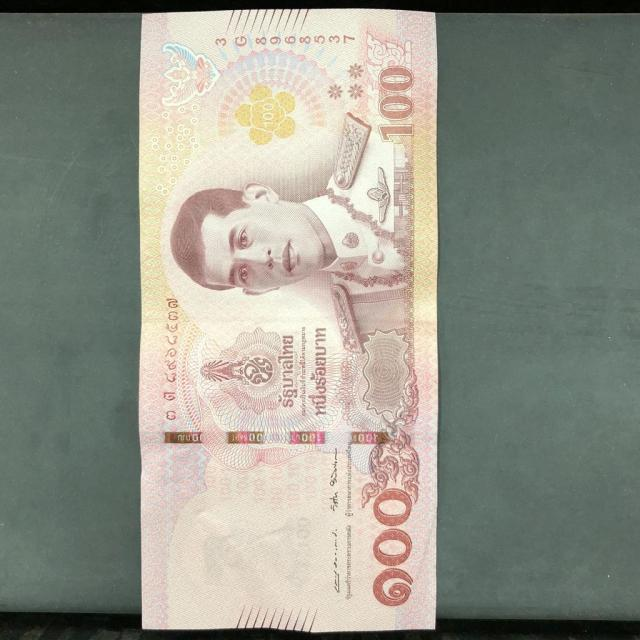THAI100: (139, 10, 438, 632)
